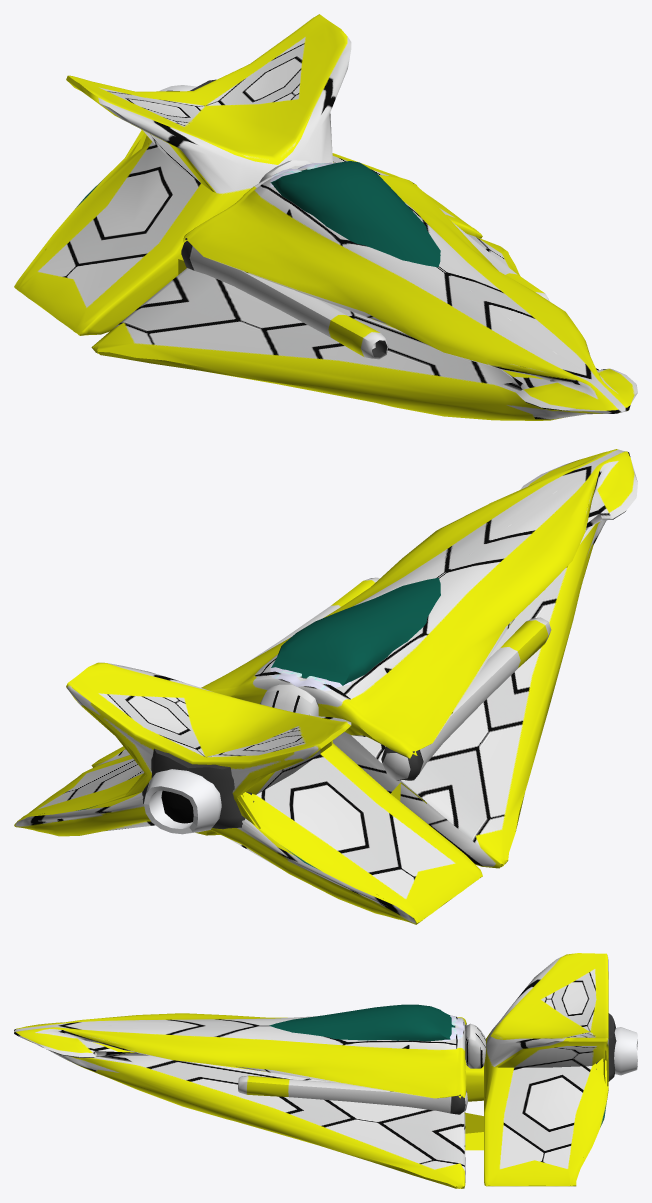
Rendered from fidelity.gltf.
The picture shows the model from 3 angles, top to bottom: view 1: azimuth 30°, elevation 25°; view 2: azimuth 150°, elevation 25°; view 3: azimuth 270°, elevation 25°; orthographic projection. The views are drawn at different scales.
Visible parts, largest first — view 1: body_bake, cockpit_bake; view 2: body_bake, cockpit_bake; view 3: body_bake, cockpit_bake.
Boxes of the visible parts, <box> form: body_bake: <box>14,14,637,420</box>; cockpit_bake: <box>270,161,440,267</box>; body_bake: <box>14,449,637,924</box>; cockpit_bake: <box>271,577,440,685</box>; body_bake: <box>14,953,637,1188</box>; cockpit_bake: <box>269,1004,454,1041</box>.
Size of the model in its own units: 3.83 by 1.64 by 7.31.
Materials: 1 (1 with a texture image).
